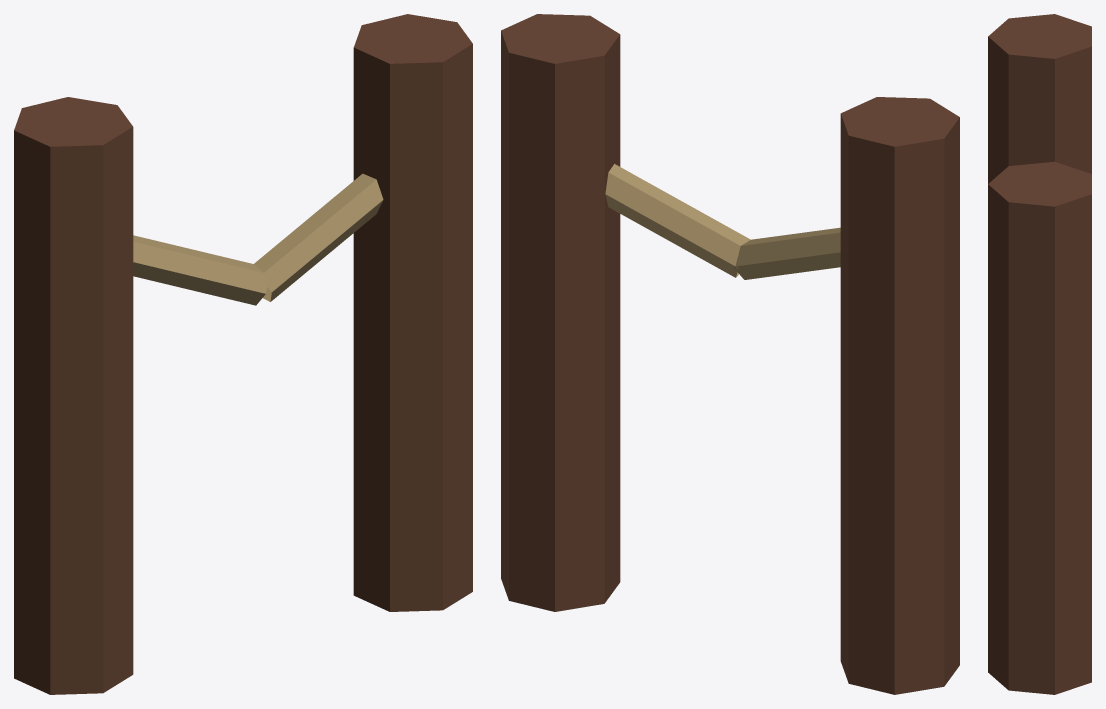
3 renders of one model, left to right at view 1: azimuth 30°, elevation 25°; view 2: azimuth 150°, elevation 25°; view 3: azimuth 270°, elevation 25°, orthographic. The views are drawn at different scales.
Visible parts, largest first — view 1: H09_双系缆木桩; view 2: H09_双系缆木桩; view 3: H09_双系缆木桩.
Part boxes in pixels (x1,y1,x2,y2): H09_双系缆木桩: (14, 14, 472, 694); H09_双系缆木桩: (501, 14, 959, 694); H09_双系缆木桩: (988, 14, 1091, 694).
Size of the model in its own units: 0.6262 by 0.74 by 0.1426.
